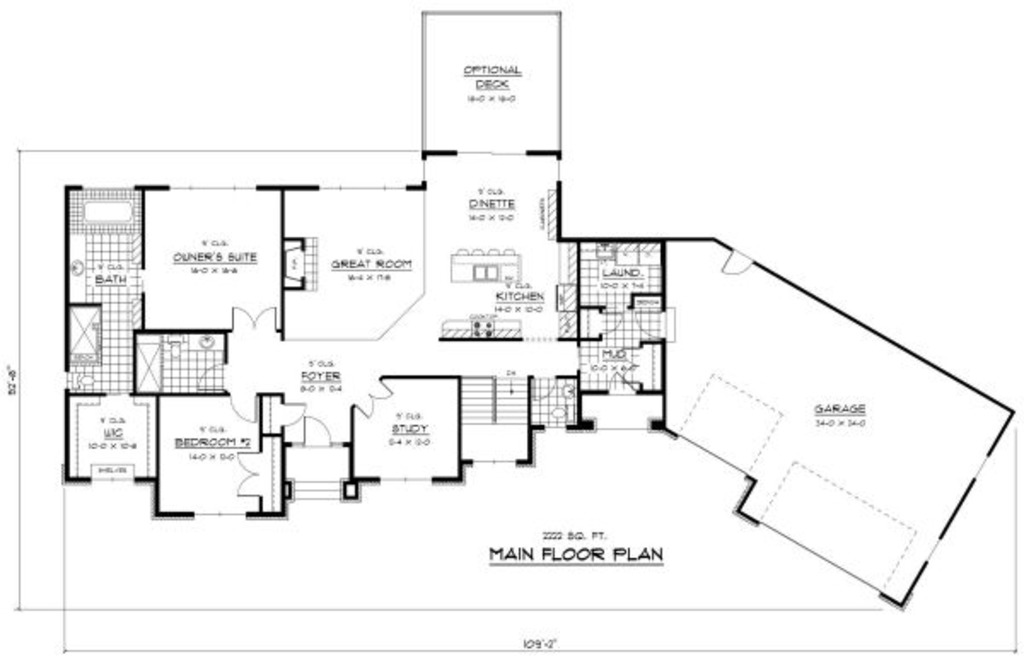door: (352, 379, 393, 418), (230, 305, 281, 335), (234, 450, 264, 498), (226, 391, 260, 424), (302, 415, 332, 449), (722, 249, 753, 275), (279, 402, 306, 428)
kitchen_bar: (445, 247, 527, 284)
large_sink: (163, 334, 190, 361)
small_sink: (68, 233, 88, 302), (186, 337, 229, 350)
stairs: (460, 368, 532, 471)
tub: (70, 191, 139, 233)
windows: (313, 178, 406, 195), (165, 182, 257, 195), (454, 147, 527, 161)
